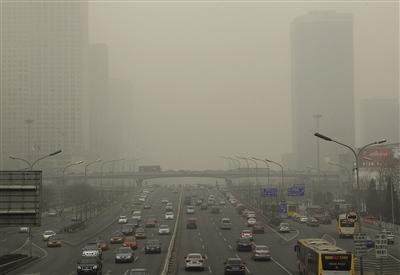bus: (293, 238, 355, 275), (336, 212, 361, 238), (304, 206, 326, 222), (284, 203, 299, 218), (138, 165, 162, 174), (184, 193, 192, 205), (207, 197, 215, 206), (209, 195, 216, 204)
car: (76, 256, 103, 275), (223, 258, 246, 275), (184, 253, 207, 270), (80, 242, 103, 259), (113, 247, 135, 263), (250, 245, 271, 261), (144, 239, 162, 254), (378, 230, 395, 244), (236, 237, 253, 251), (122, 236, 138, 250), (359, 235, 375, 248), (46, 235, 62, 248), (121, 223, 136, 236), (41, 230, 57, 242), (110, 231, 125, 243), (219, 217, 233, 229), (126, 268, 150, 275), (239, 230, 254, 241), (134, 227, 147, 239), (306, 216, 320, 227), (186, 217, 198, 229), (252, 222, 265, 233), (96, 240, 109, 251), (279, 222, 291, 233), (158, 224, 170, 235), (131, 210, 142, 222), (320, 215, 332, 225), (18, 223, 30, 233), (246, 210, 257, 220), (185, 205, 196, 214), (145, 218, 156, 227), (164, 211, 175, 220), (296, 216, 308, 224), (118, 215, 128, 224), (236, 202, 245, 211), (247, 218, 257, 226), (164, 202, 174, 210), (212, 206, 220, 214), (143, 202, 152, 209), (230, 198, 238, 205), (138, 196, 146, 203), (219, 199, 226, 206), (200, 203, 208, 209), (161, 197, 169, 203)
